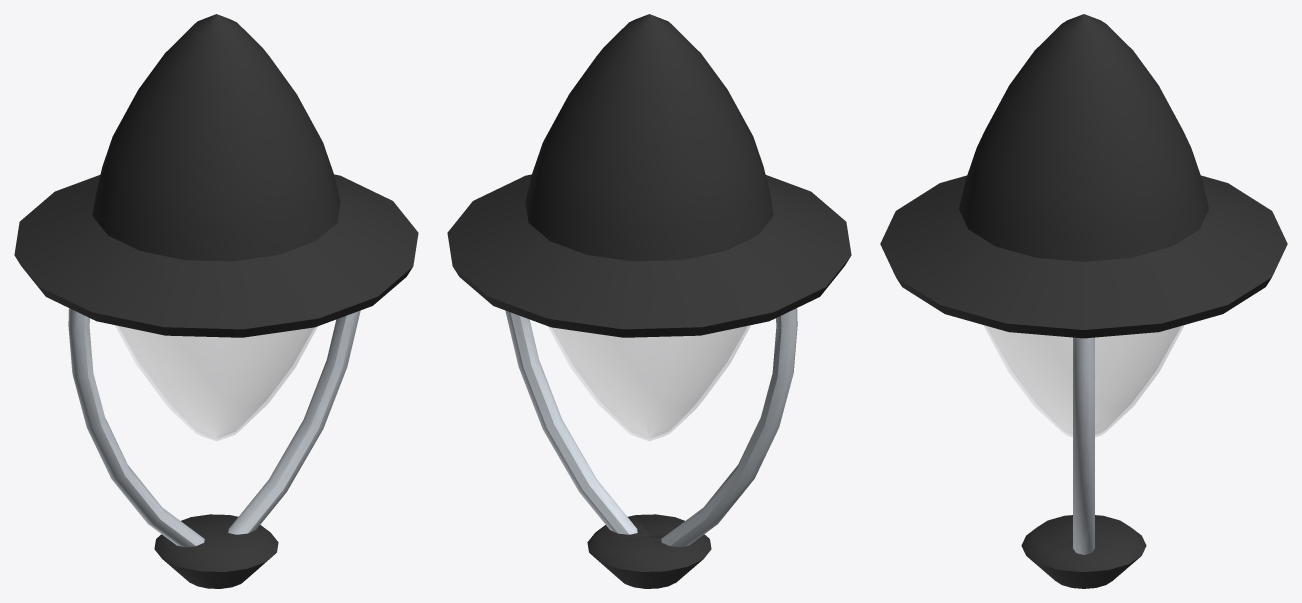
File: Lucas_VII.glb
3 renders of one model, left to right at view 1: azimuth 30°, elevation 25°; view 2: azimuth 150°, elevation 25°; view 3: azimuth 270°, elevation 25°, orthographic.
Parts seen in each view (by area): view 1: Lucas VII; view 2: Lucas VII; view 3: Lucas VII.
Boxes of the visible parts, <box> form: Lucas VII: <box>14,14,418,588</box>; Lucas VII: <box>447,14,851,588</box>; Lucas VII: <box>880,14,1287,588</box>.
Size of the model in its own units: 0.5534 by 0.8417 by 0.5534.
4 materials, 3 textured.
